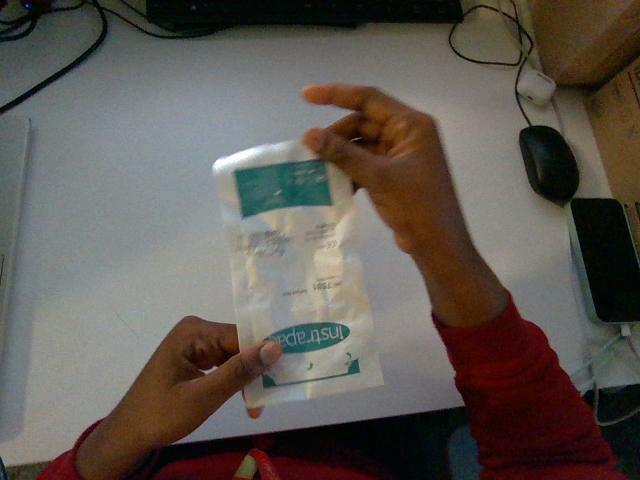gallipot: (213, 141, 382, 406)
